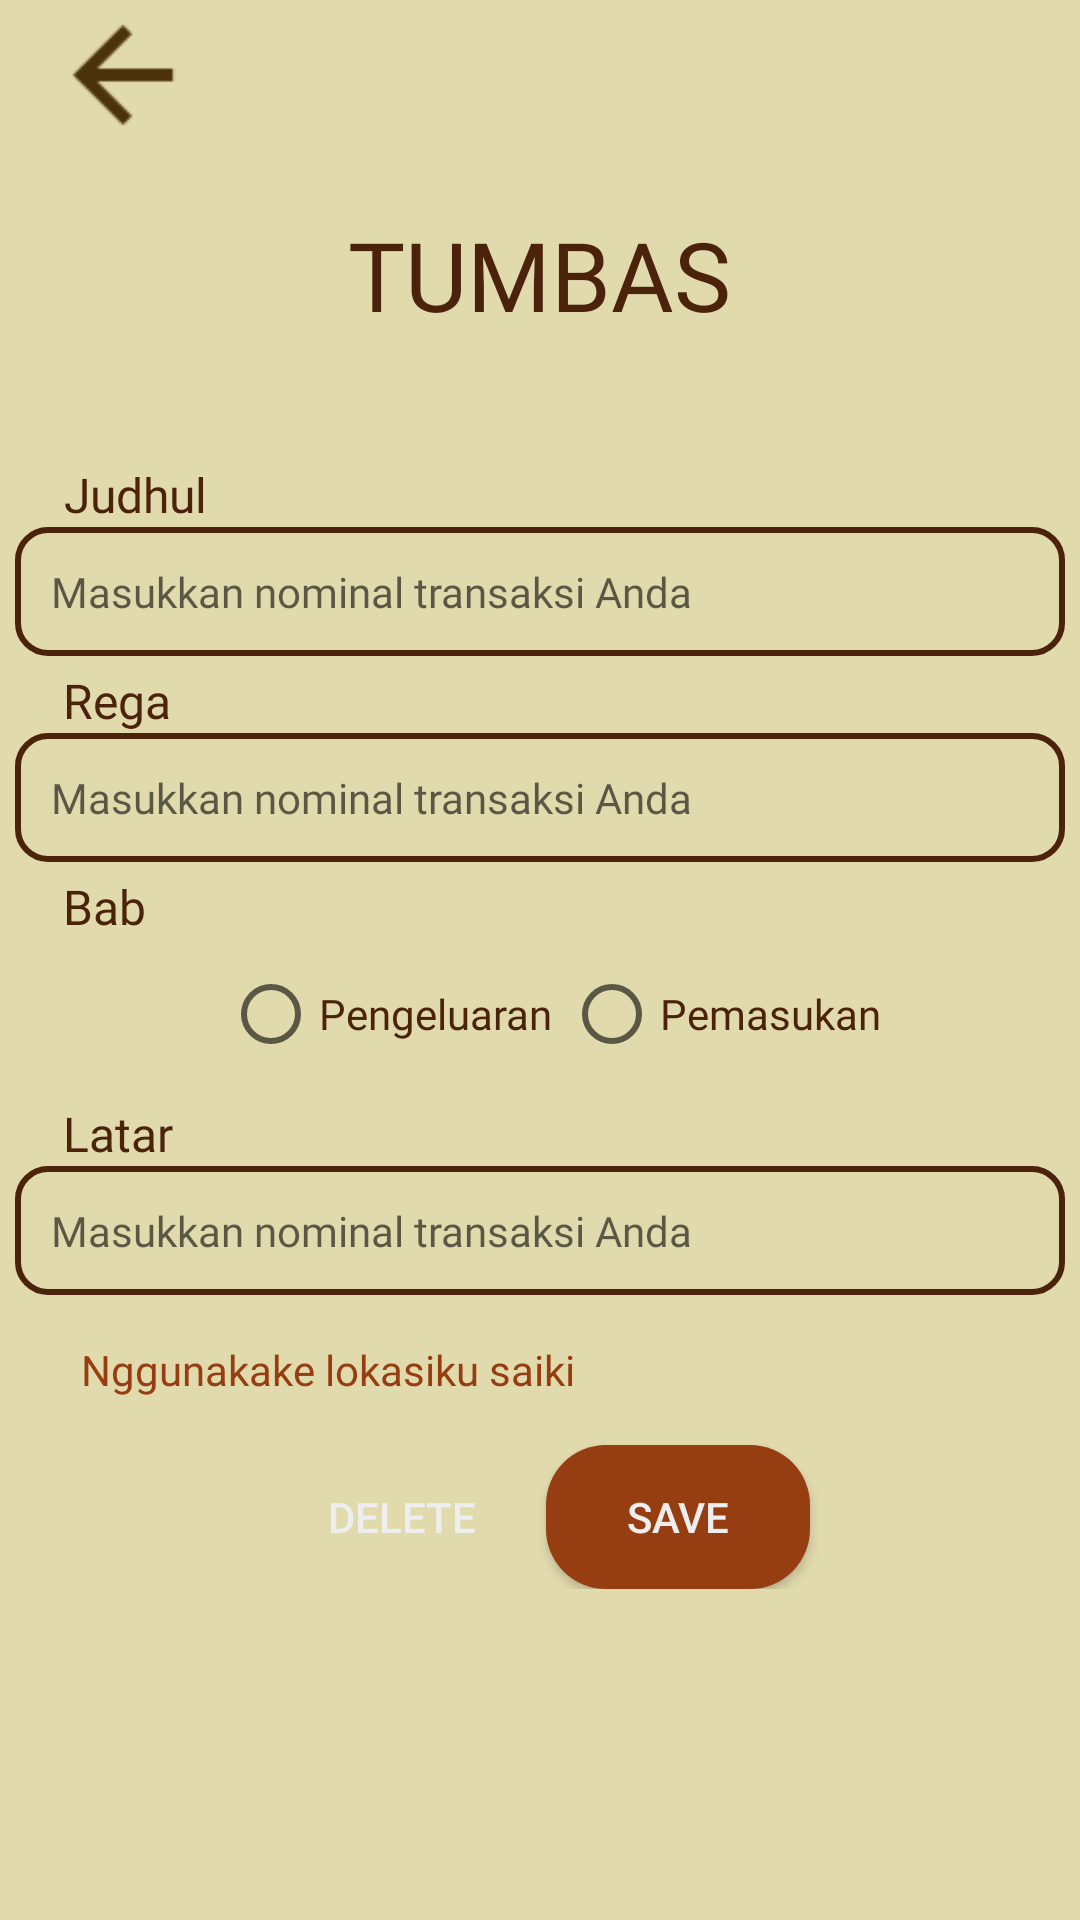

Screen size 1080×1920. Icon name, then its center in pixels as (x=x, y=y):
arrow back: (x=123, y=75)
